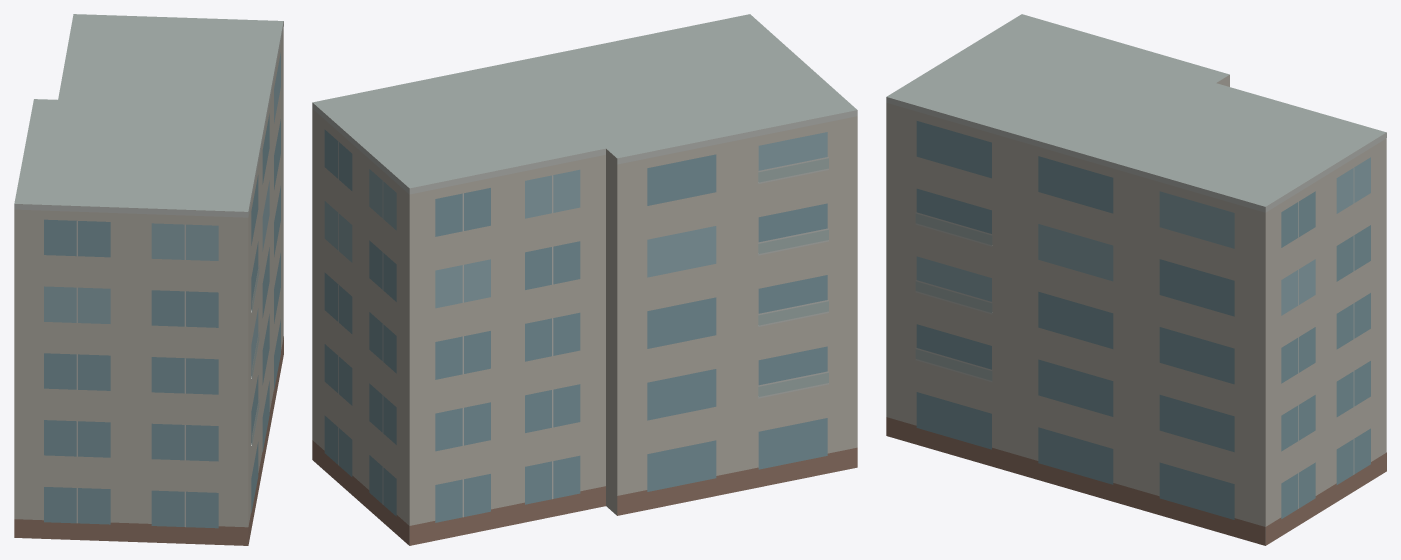
Rendered from survey-upis-32550942.glb.
3 renders of one model, left to right at view 1: azimuth 30°, elevation 25°; view 2: azimuth 150°, elevation 25°; view 3: azimuth 270°, elevation 25°, orthographic. The views are drawn at different scales.
Visible parts, largest first — view 1: survey-upis-32550942.tmp; view 2: survey-upis-32550942.tmp; view 3: survey-upis-32550942.tmp.
Part boxes in pixels (box(x1,y1,x2,y2)): survey-upis-32550942.tmp: box(14, 14, 283, 545); survey-upis-32550942.tmp: box(312, 14, 857, 545); survey-upis-32550942.tmp: box(886, 14, 1386, 545).
Size of the model in its own units: 17.34 by 14.2 by 19.01.
